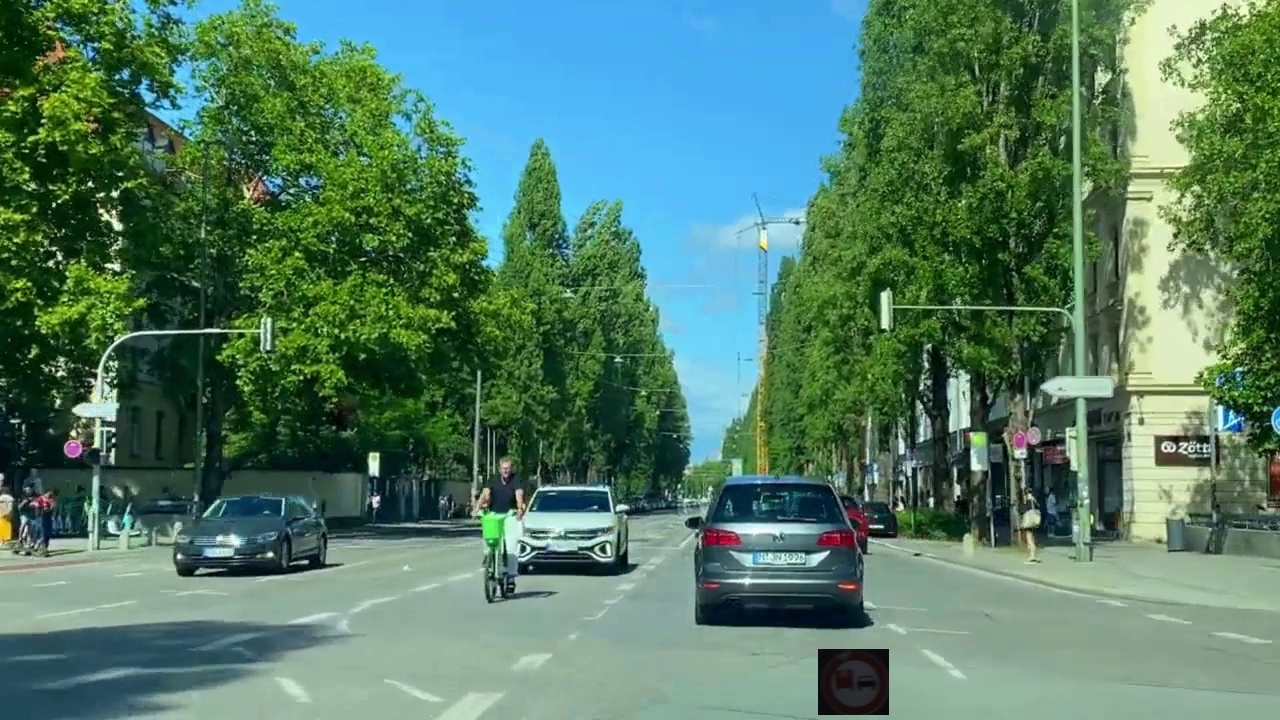No pass >3.5t: (818, 649, 889, 715)
